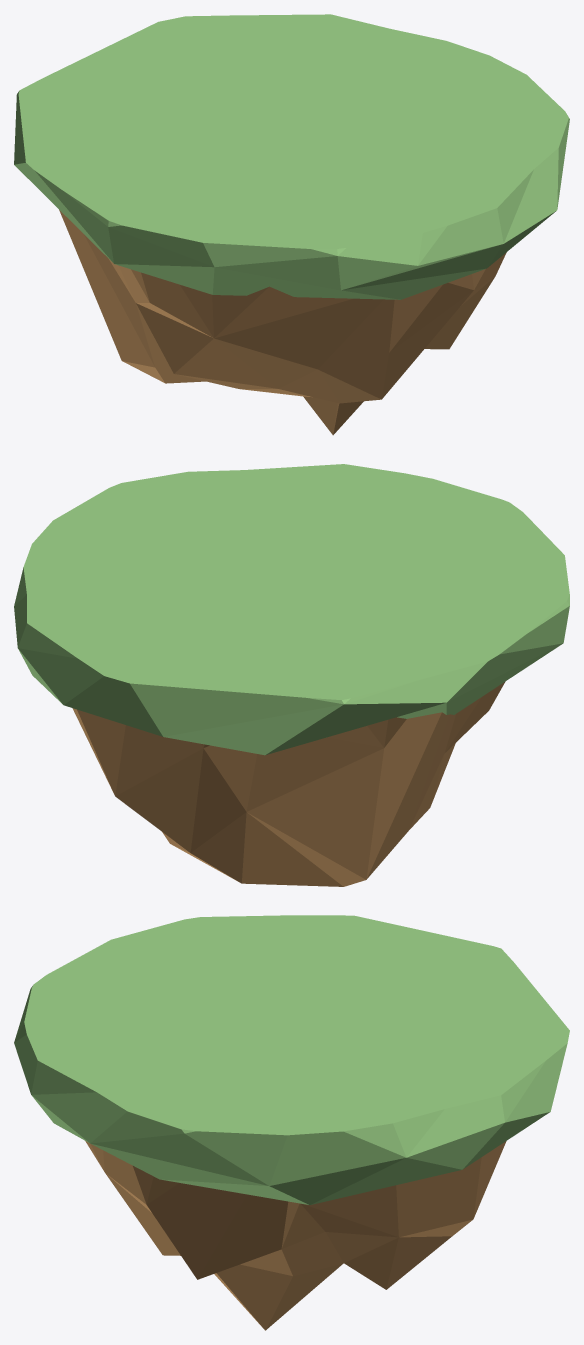
The model's file is island4.fbx.
3 views of the same model, one above another, from view 1: azimuth 30°, elevation 25°; view 2: azimuth 150°, elevation 25°; view 3: azimuth 270°, elevation 25° (orthographic). The views are drawn at different scales.
Visible parts, largest first — view 1: island4; view 2: island4; view 3: island4.
Part boxes in pixels (x1,y1,x2,y2): island4: (14,14,569,435); island4: (14,464,569,886); island4: (14,915,569,1330).
Bounding box in the file's own units: 2200 × 1361 × 2348.
